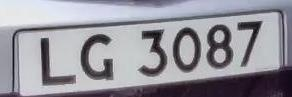0: (169, 21, 205, 79)
3: (133, 23, 170, 83)
7: (233, 15, 266, 72)
8: (203, 18, 235, 75)
G: (75, 26, 121, 87)
L: (30, 33, 80, 91)
